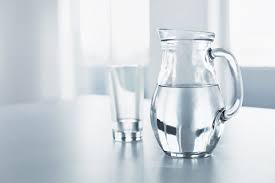glass of water: (152, 26, 246, 161), (105, 62, 147, 144)
